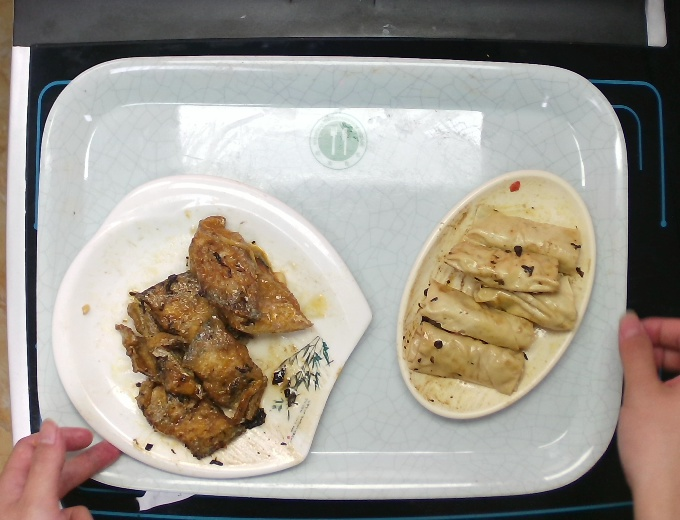JYsf-Mian_Pan: (48, 171, 374, 481)
JYsf-Tuo_Yuan_Wan: (394, 167, 599, 422)
